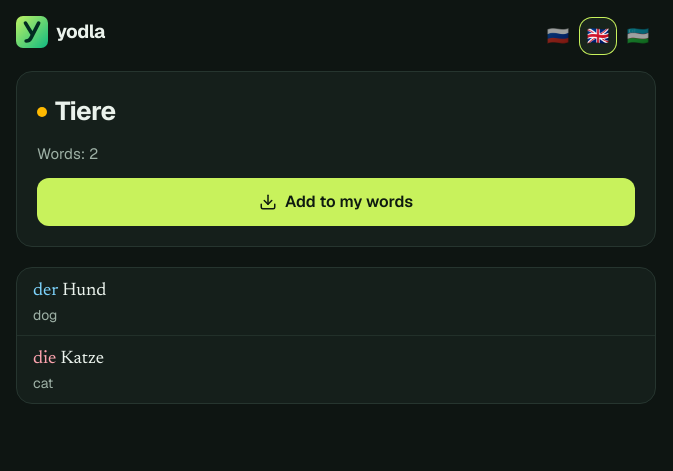
Test: /s/:token › explains the refusals: own folder (with a link to it), other language, bad link
Expected: the text "Tiere" is shown, [55, 92, 116, 131]
Click the button "Add to my words".
click(336, 202)  # box [37, 178, 635, 226]
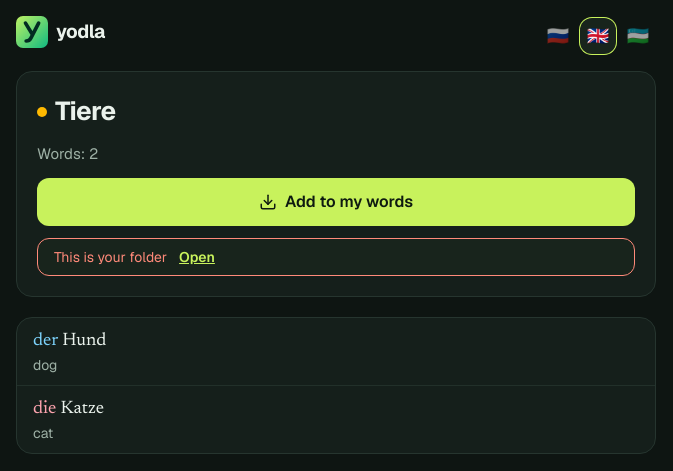
Now the text "This is your folder Open" is shown, box [37, 238, 635, 276]
Click the button "Add to my words".
click(336, 202)  # box [37, 178, 635, 226]
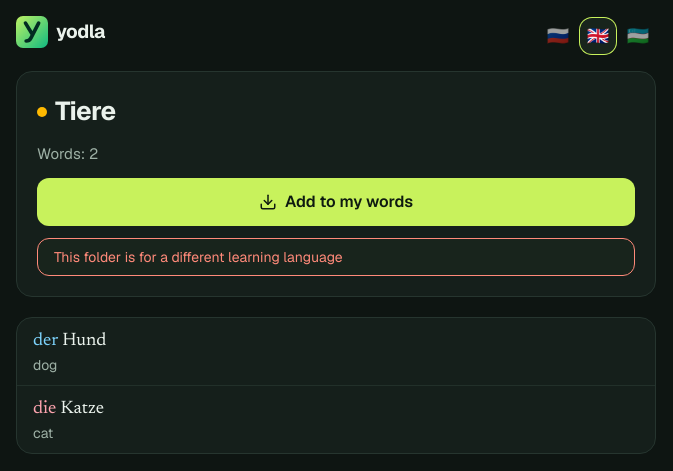
Now the text "This folder is for a different learning language" is shown, box [37, 238, 635, 276]
